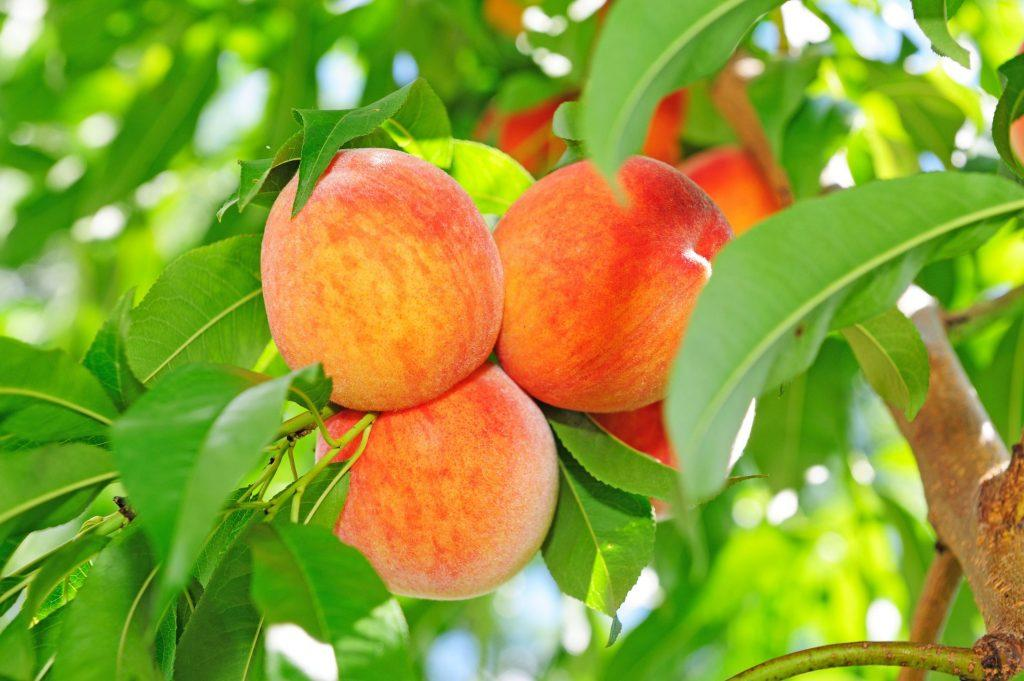Peach leaf: (285, 71, 469, 221), (249, 513, 412, 681), (542, 447, 660, 654), (128, 224, 262, 384), (844, 308, 934, 424)
